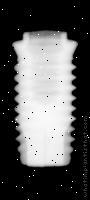Nobel Biocare: (8, 29, 78, 169)
